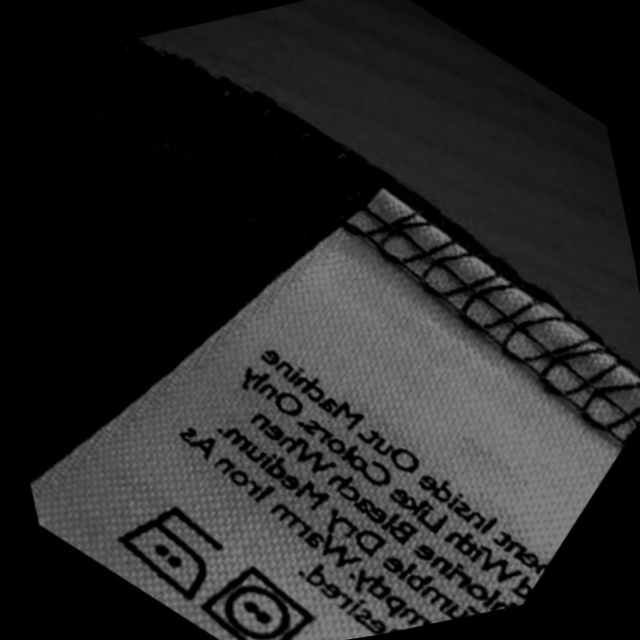iron_medium: (106, 497, 231, 611)
tumble_dry_medium: (192, 557, 318, 640)
